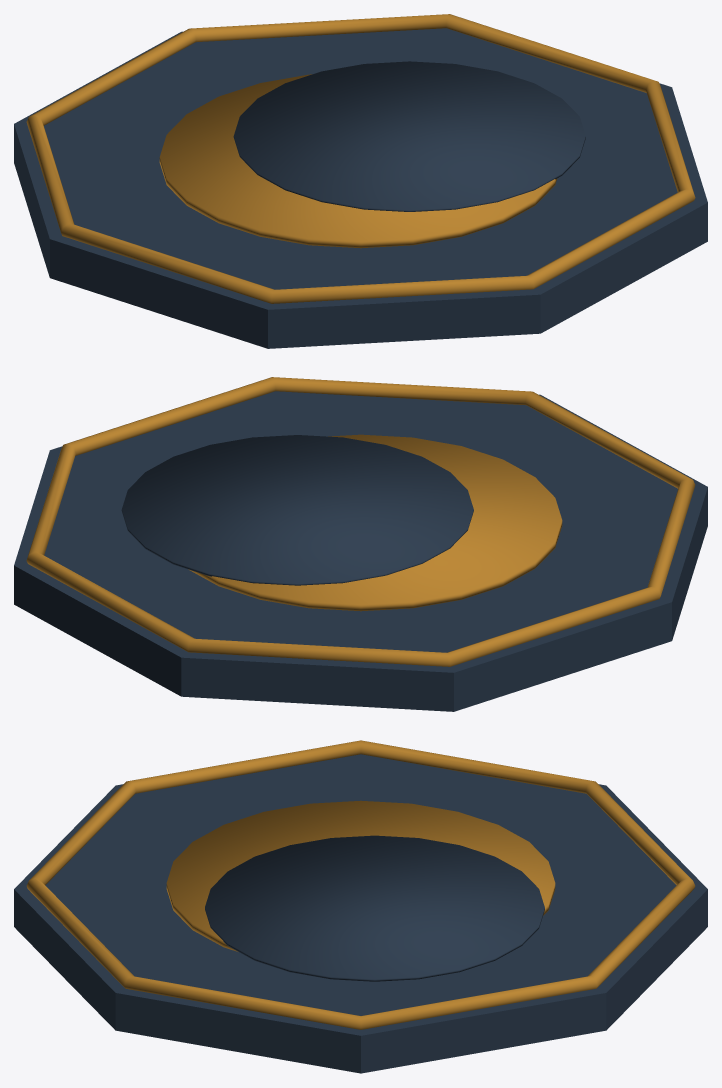
The model's file is item_7item280.glb.
3 renders of one model, top to bottom at view 1: azimuth 30°, elevation 25°; view 2: azimuth 150°, elevation 25°; view 3: azimuth 270°, elevation 25°, orthographic. The views are drawn at different scales.
Parts seen in each view (by area): view 1: props_7item280; view 2: props_7item280; view 3: props_7item280.
Part boxes in pixels (x1,y1,x2,y2): props_7item280: (14,14,707,348); props_7item280: (14,377,707,711); props_7item280: (14,740,707,1073).
Bounding box in the file's own units: 1 × 0.077 × 1.
